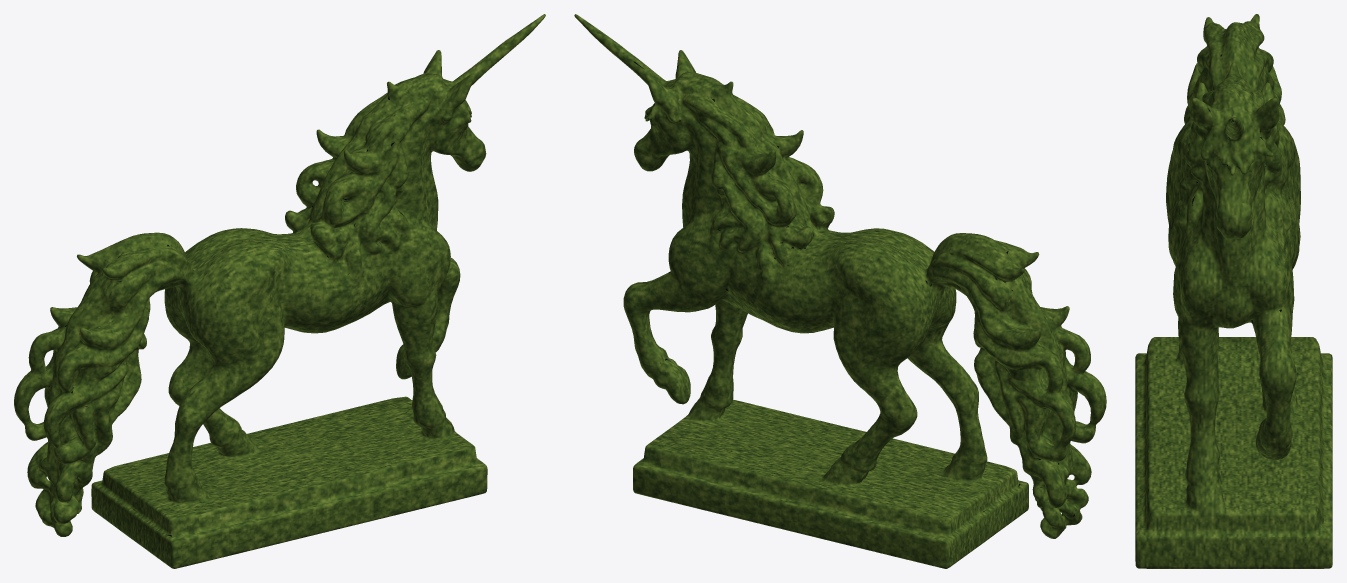
File: unicorn-hedge.glb
3 views of the same model, side by side, from view 1: azimuth 30°, elevation 25°; view 2: azimuth 150°, elevation 25°; view 3: azimuth 270°, elevation 25° (orthographic). The views are drawn at different scales.
Visible parts, largest first — view 1: unicorn - original generated mesh; view 2: unicorn - original generated mesh; view 3: unicorn - original generated mesh.
Part boxes in pixels (box(x1,y1,x2,y2)): unicorn - original generated mesh: box(14, 14, 545, 568); unicorn - original generated mesh: box(574, 14, 1106, 568); unicorn - original generated mesh: box(1135, 14, 1332, 568).
Size of the model in its own units: 4.31 by 3.4 by 1.2.
1 material, 1 textured.
